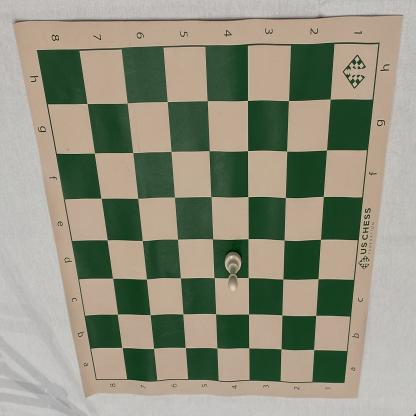white-pawn: (223, 250, 242, 293)
